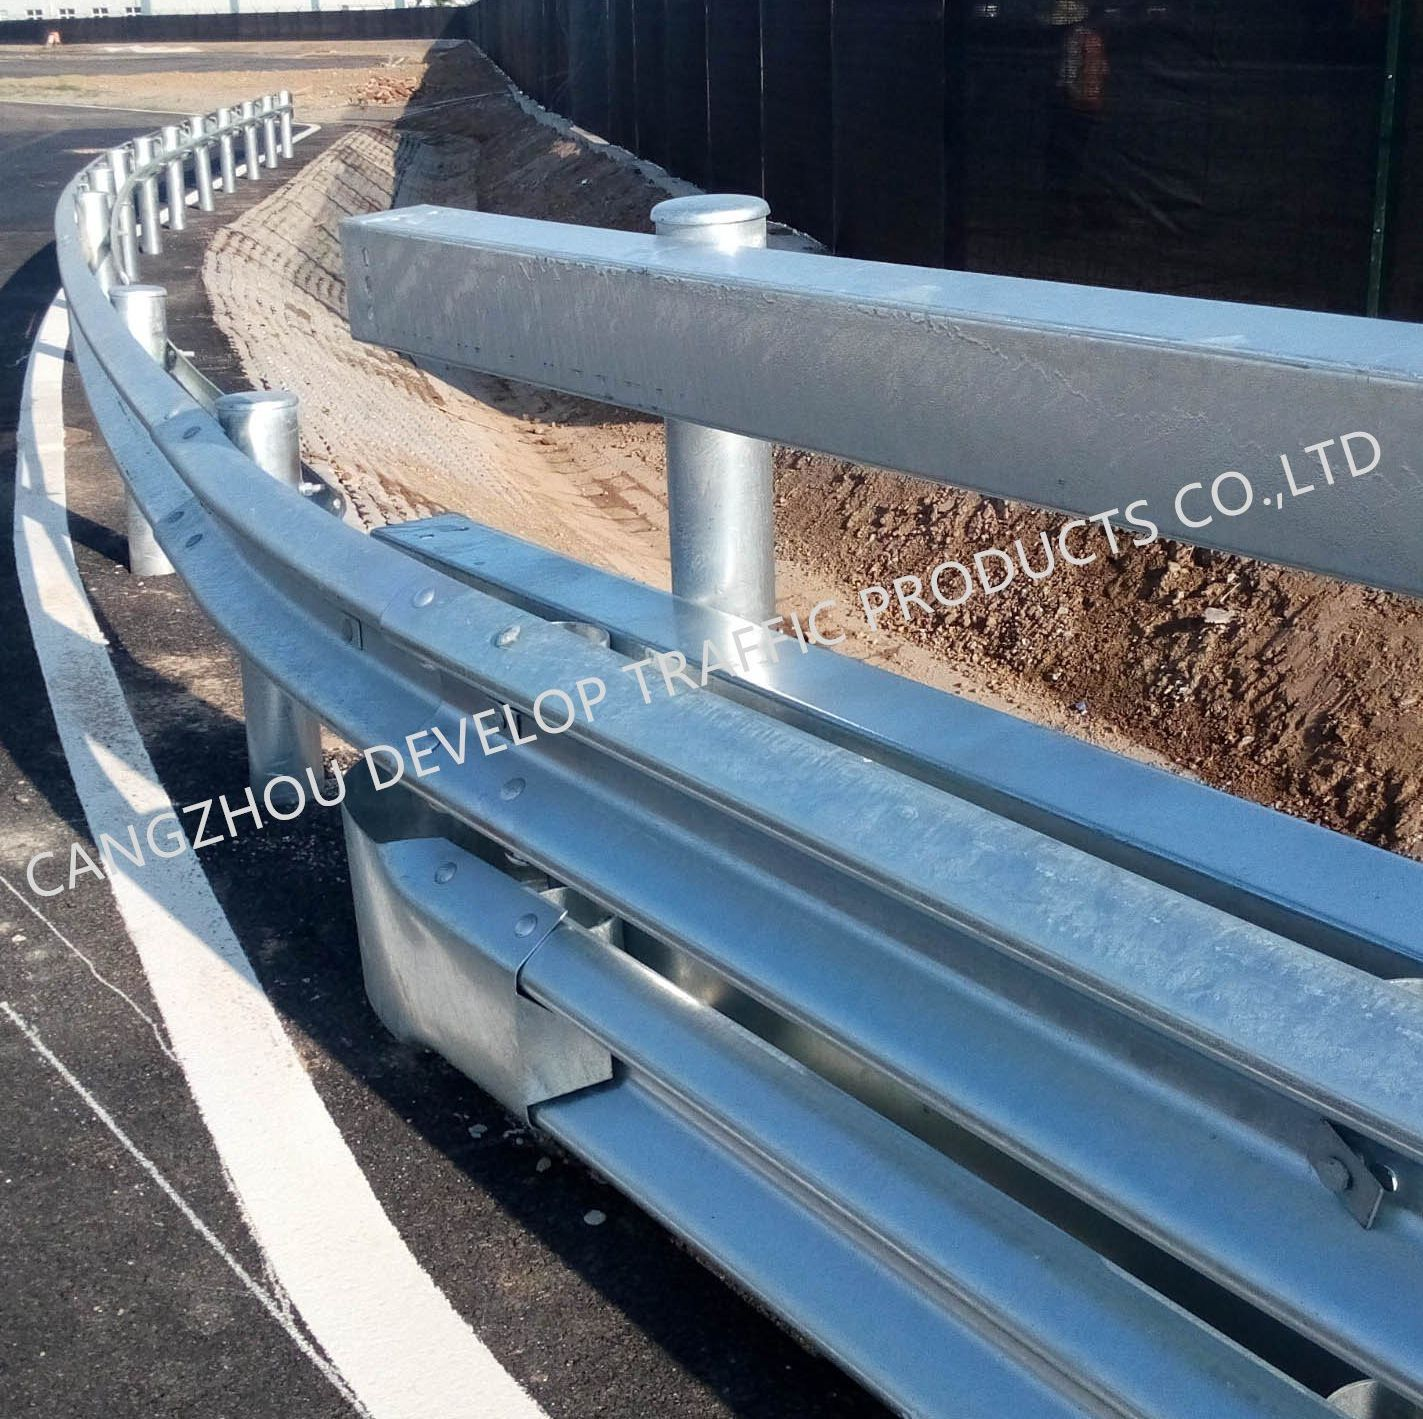not_damaged: (599, 646, 1423, 1419)
